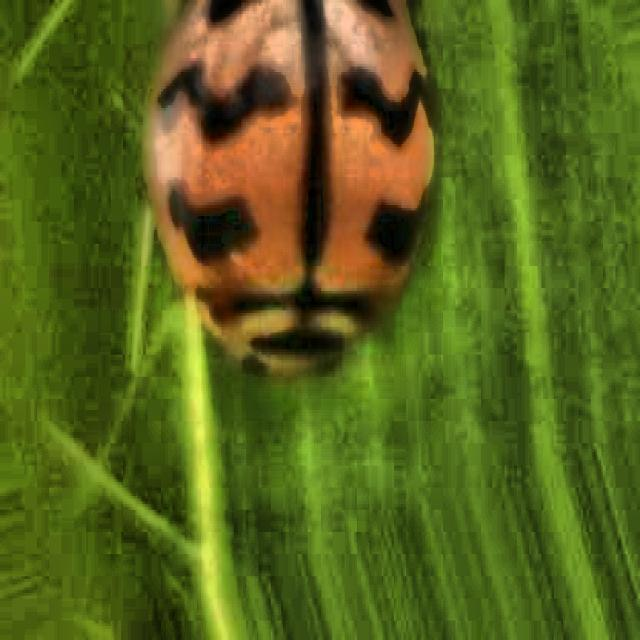Asian-Lady-beetle: (116, 0, 481, 412)
